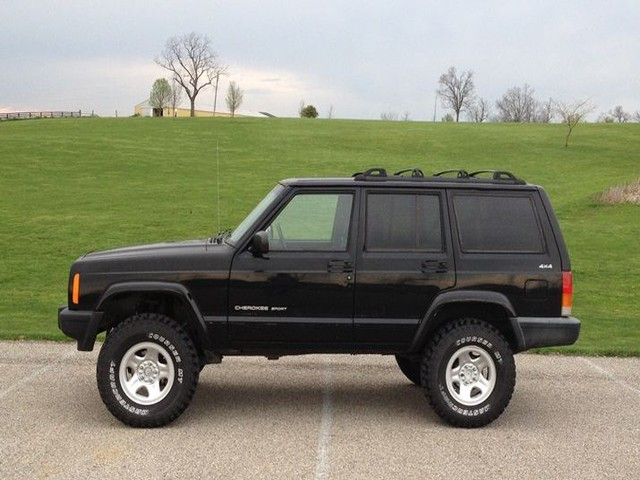Vehicle: (57, 167, 583, 429)
